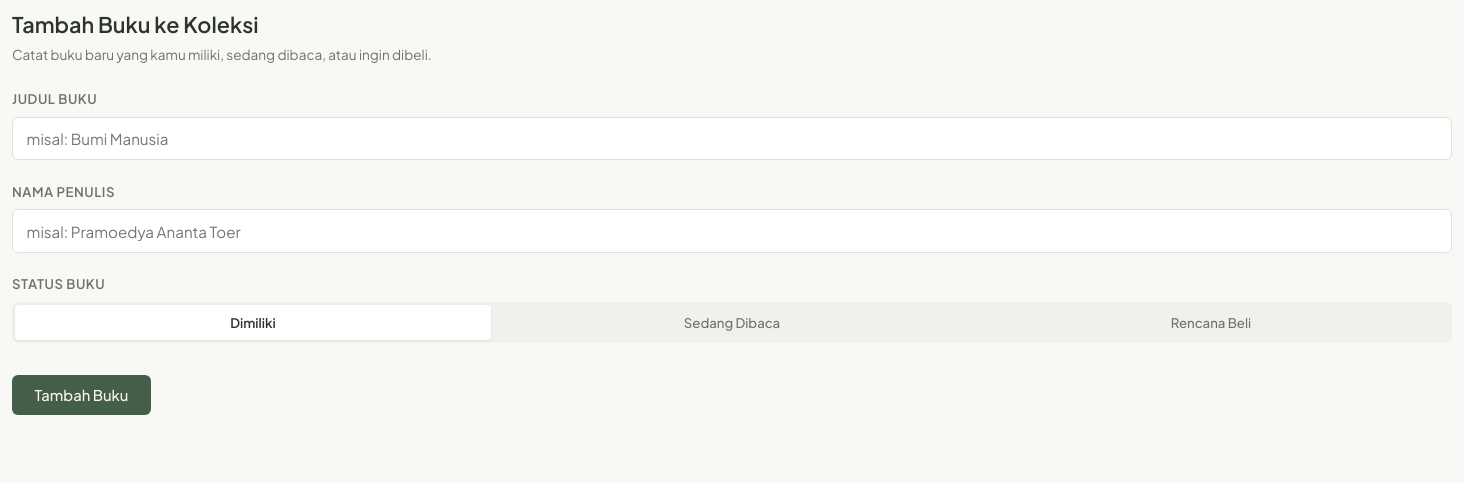
Test: Komponen BookForm › menampilkan pesan validasi error saat input judul dan penulis kosong
Click the button "Tambah Buku": (81, 395) [12, 375, 151, 415]
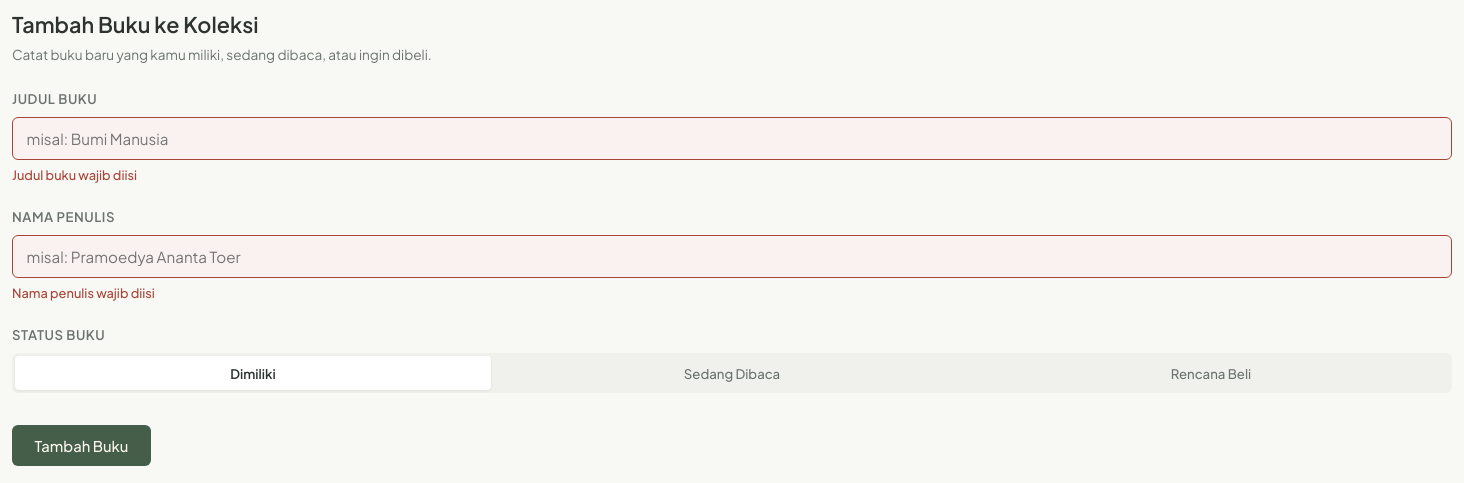
Check: the text "Judul buku wajib diisi" is shown, box [12, 167, 137, 183]
Check: the text "Nama penulis wajib diisi" is shown, box [12, 285, 155, 301]
